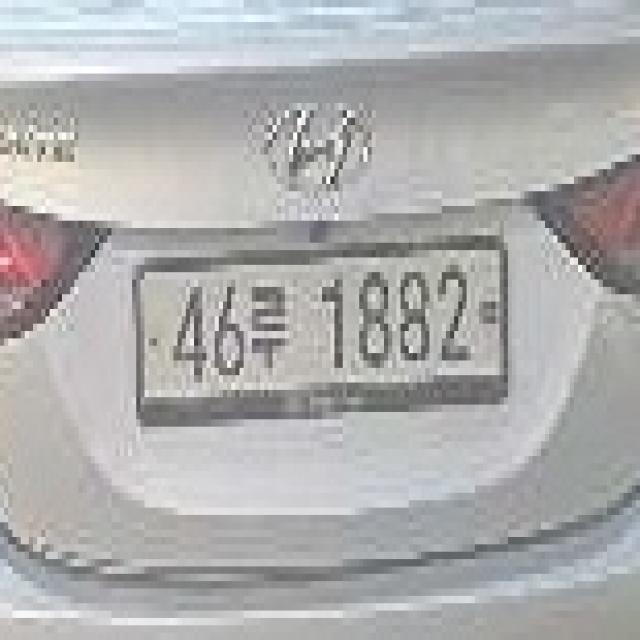1: (322, 274, 354, 384)
2: (437, 265, 478, 378)
4: (172, 283, 212, 387)
6: (216, 282, 248, 390)
8: (398, 266, 433, 370), (358, 271, 393, 374)
license_plate: (130, 253, 510, 408)
lu: (252, 282, 294, 387)
